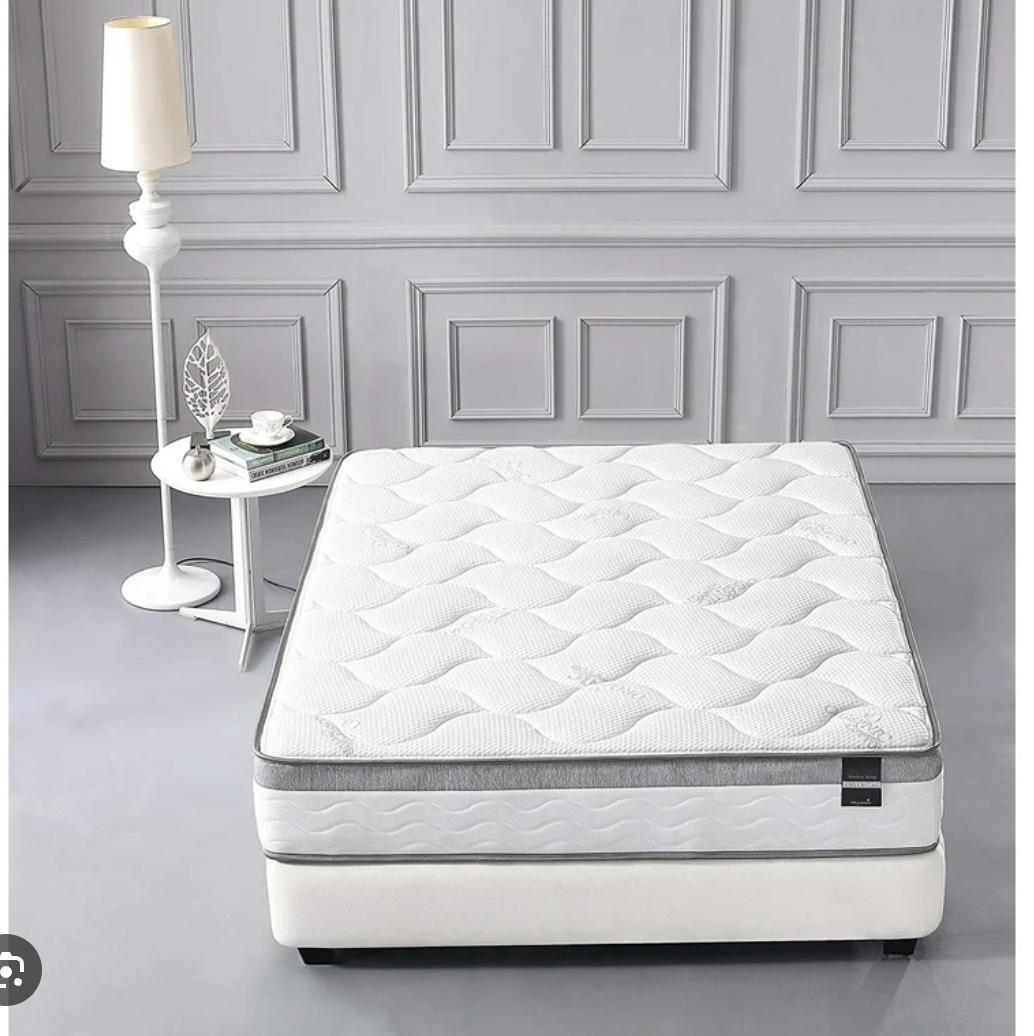Bed-Mattress: (240, 433, 958, 862)
